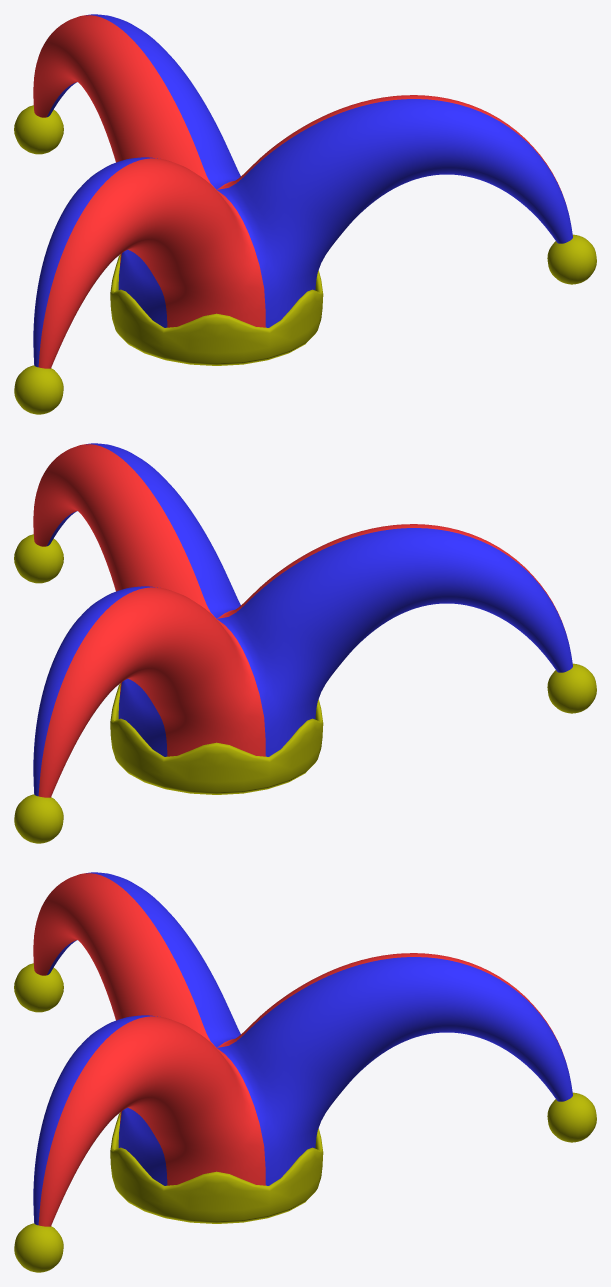
File: JesterHat.fbx
3 views of the same model, one above another, from view 1: azimuth 30°, elevation 25°; view 2: azimuth 150°, elevation 25°; view 3: azimuth 270°, elevation 25° (orthographic).
Visible parts, largest first — view 1: BOTTOM; view 2: BOTTOM; view 3: BOTTOM.
Part boxes in pixels (x1,y1,x2,y2): BOTTOM: (14,14,596,414); BOTTOM: (14,443,596,843); BOTTOM: (14,872,596,1272).
Size of the model in its own units: 548 by 204 by 480.
